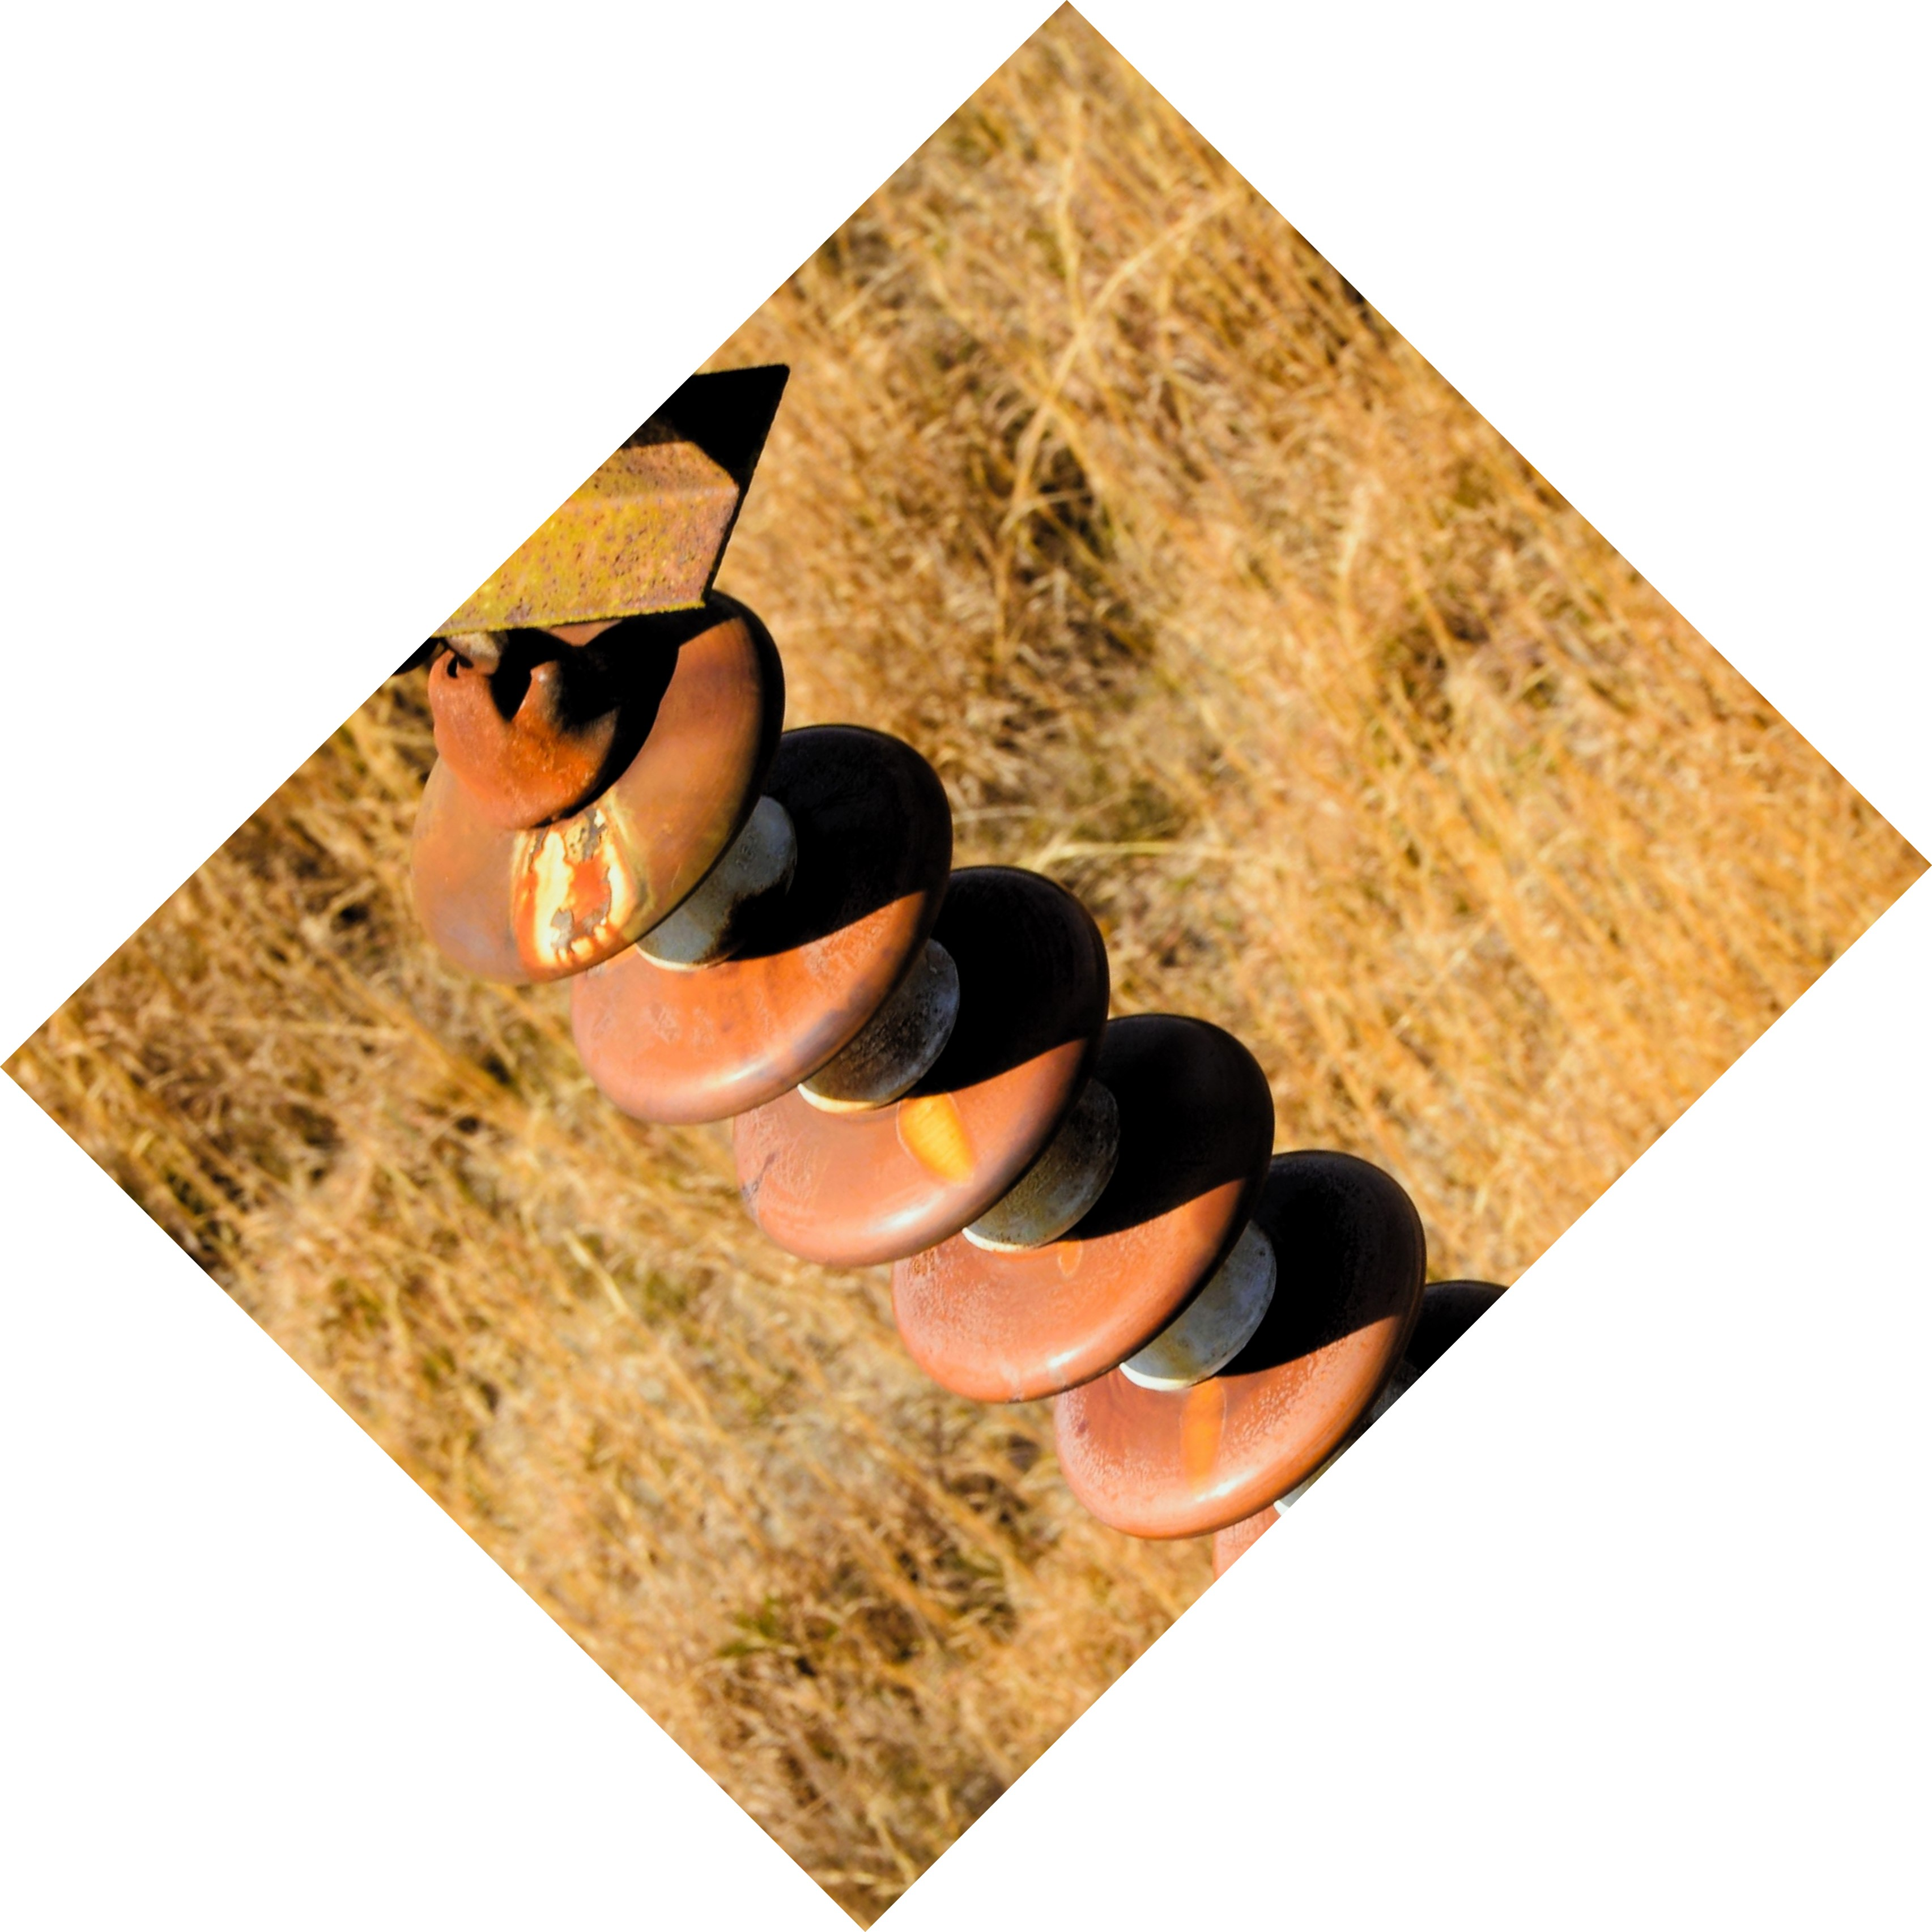Insulator flashover: (387, 579, 800, 991)
